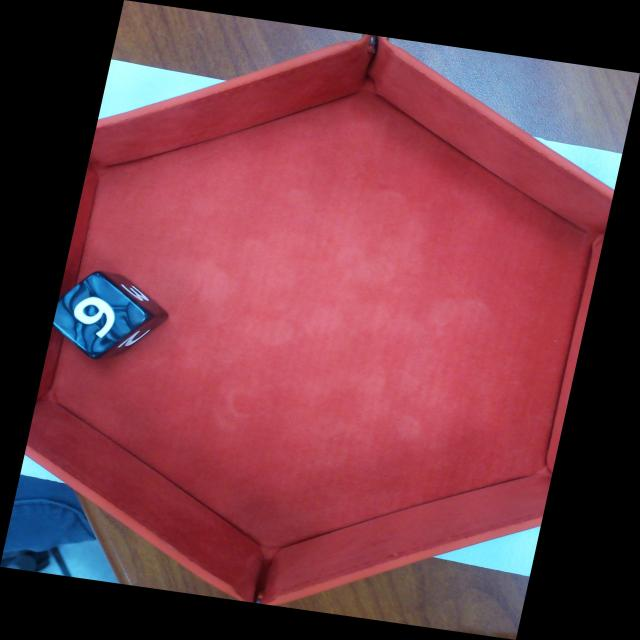dice: (35, 270, 153, 362)
